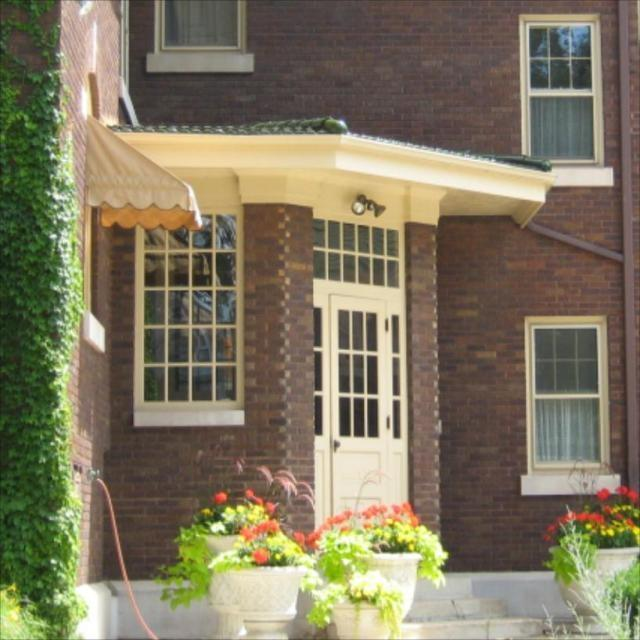door: (312, 276, 408, 529)
